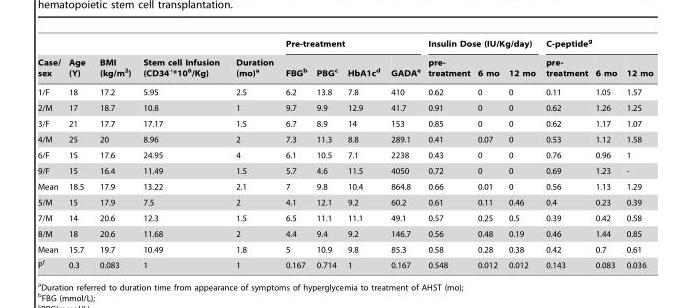table: (37, 37, 652, 269)
table column: (136, 37, 227, 269), (227, 37, 278, 269), (540, 37, 591, 269), (423, 37, 473, 269), (91, 37, 136, 269), (341, 37, 384, 269), (384, 37, 423, 269), (503, 37, 540, 269), (278, 37, 311, 269), (621, 37, 652, 269), (311, 37, 341, 269), (473, 37, 503, 269), (591, 37, 621, 269), (63, 37, 91, 269), (37, 37, 63, 269)
table column header: (37, 37, 652, 82)
table row: (37, 52, 652, 82), (37, 82, 652, 99), (37, 99, 652, 115), (37, 115, 652, 131), (37, 131, 652, 147), (37, 162, 652, 178), (37, 178, 652, 194), (37, 194, 652, 210), (37, 225, 652, 241), (37, 37, 652, 52), (37, 147, 652, 162), (37, 210, 652, 225), (37, 241, 652, 256), (37, 256, 652, 269)
table spanning cell: (136, 37, 227, 82), (227, 37, 278, 82), (278, 37, 423, 52), (91, 37, 136, 82), (423, 37, 540, 52), (540, 37, 652, 52), (63, 37, 91, 82), (37, 37, 63, 82)
